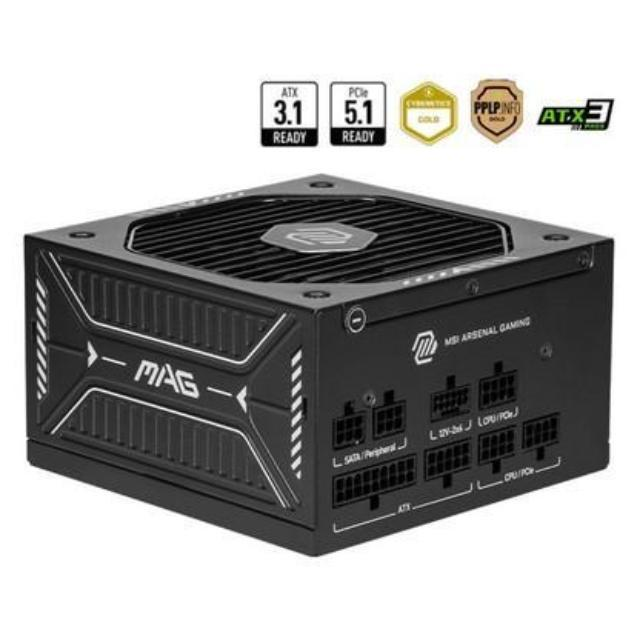PSU: (16, 174, 618, 554)
